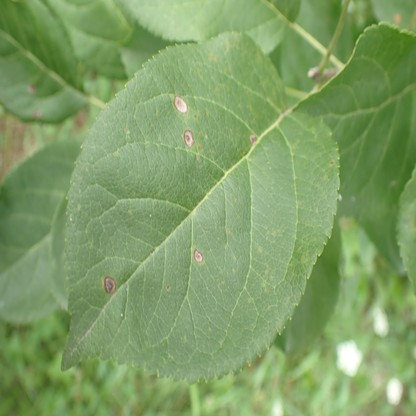frogeye_leaf_spot: (174, 96, 188, 114), (183, 129, 195, 147), (103, 277, 115, 293), (193, 248, 203, 262), (251, 135, 259, 149)
